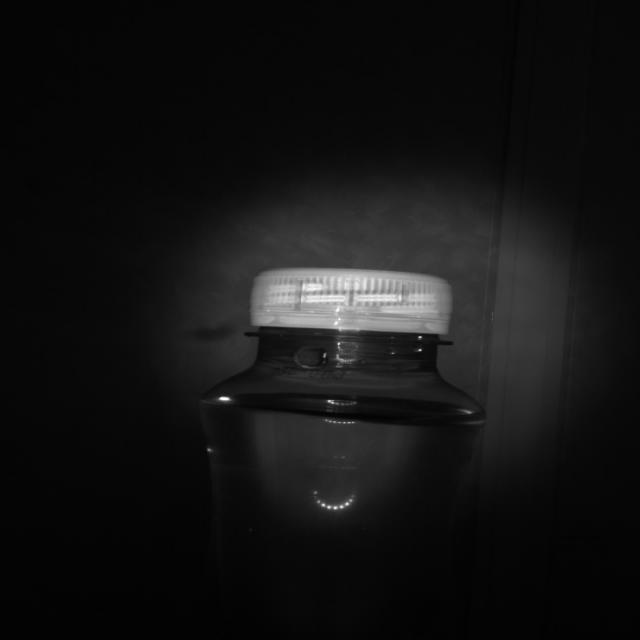Good: (248, 265, 459, 339)
